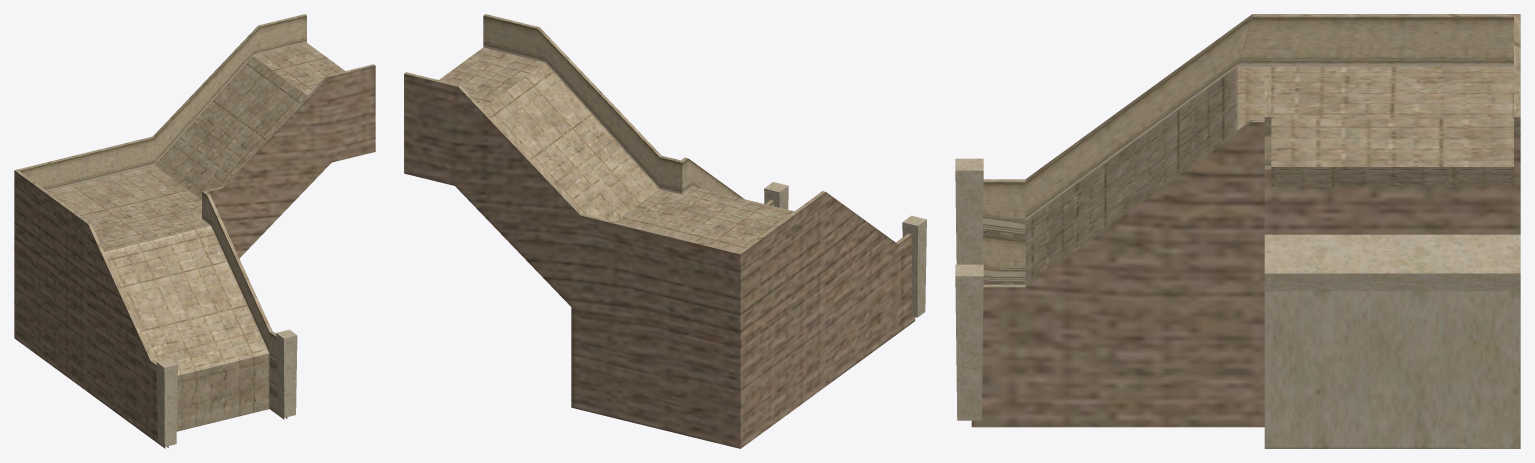
File: thm_nboo_imprv_bridge_stairs_s02_l2.fbx
The picture shows the model from 3 angles, left to right: view 1: azimuth 30°, elevation 25°; view 2: azimuth 150°, elevation 25°; view 3: azimuth 270°, elevation 25°; orthographic projection. The views are drawn at different scales.
Parts seen in each view (by area): view 1: mesh_node; view 2: mesh_node; view 3: mesh_node.
Part boxes in pixels (<box>): mesh_node: <box>14,14,375,448</box>; mesh_node: <box>404,14,926,448</box>; mesh_node: <box>955,14,1520,448</box>.
Bounding box in the file's own units: 12.63 × 10.32 × 11.49.
